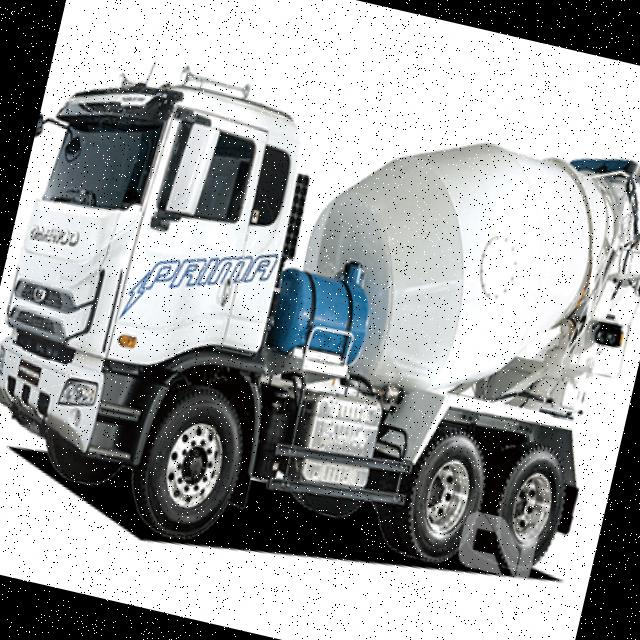Mixer Truck: (0, 29, 640, 631)
